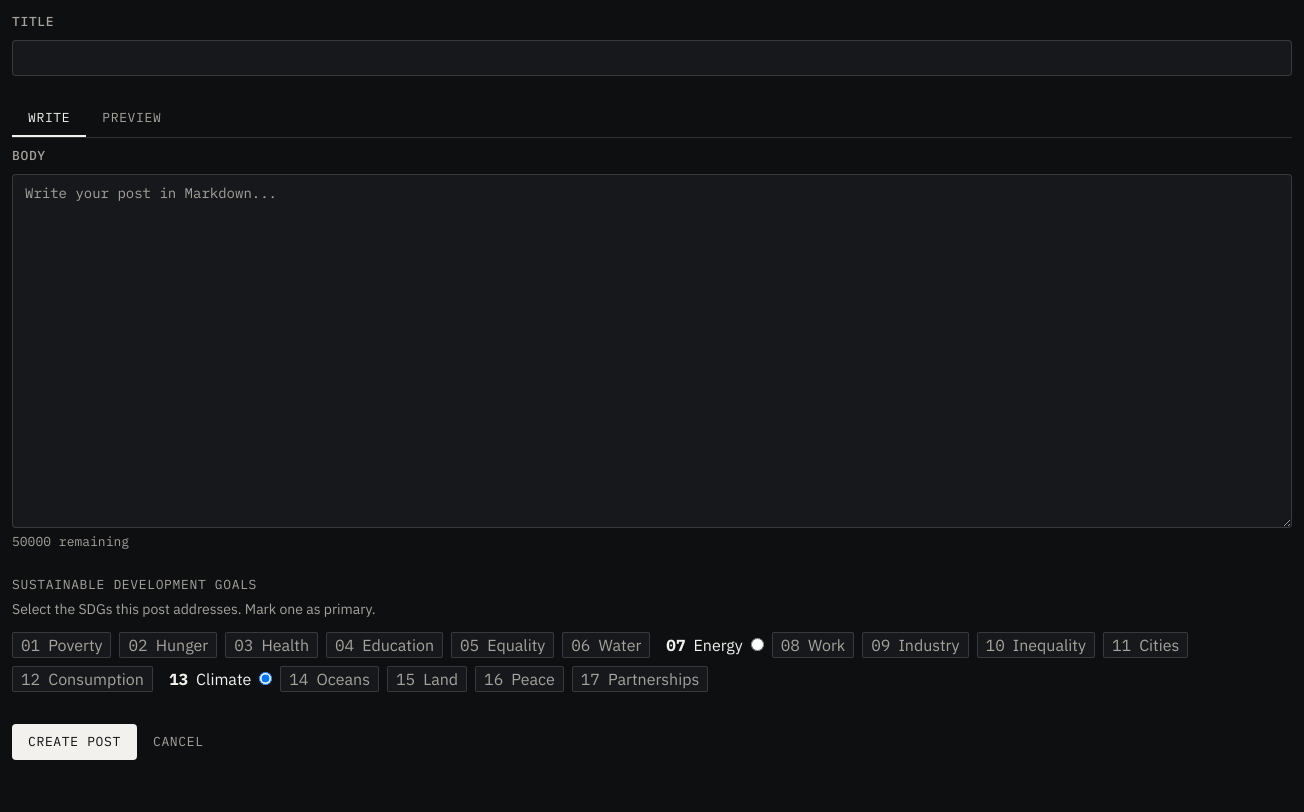
Scenario: PostCreateForm › preview tab shows rendered markdown output
This screenshot has width=1304, height=812.
Type "**bold**" into the text box labelled "Body".
click(652, 350); type("**bold**")  # box [12,174,1292,528]
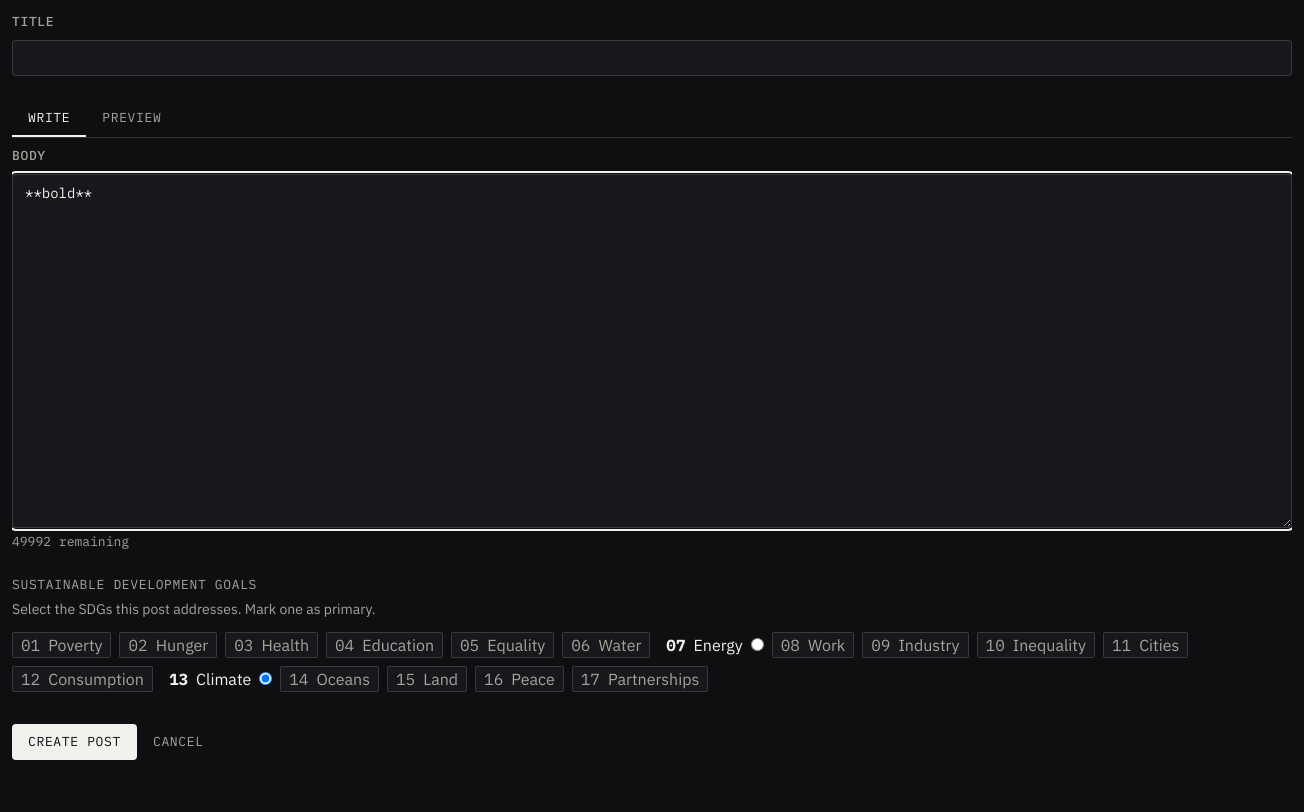
Click the Preview tab
Click the tab "Preview".
click(132, 118)  # box [86,100,178,137]
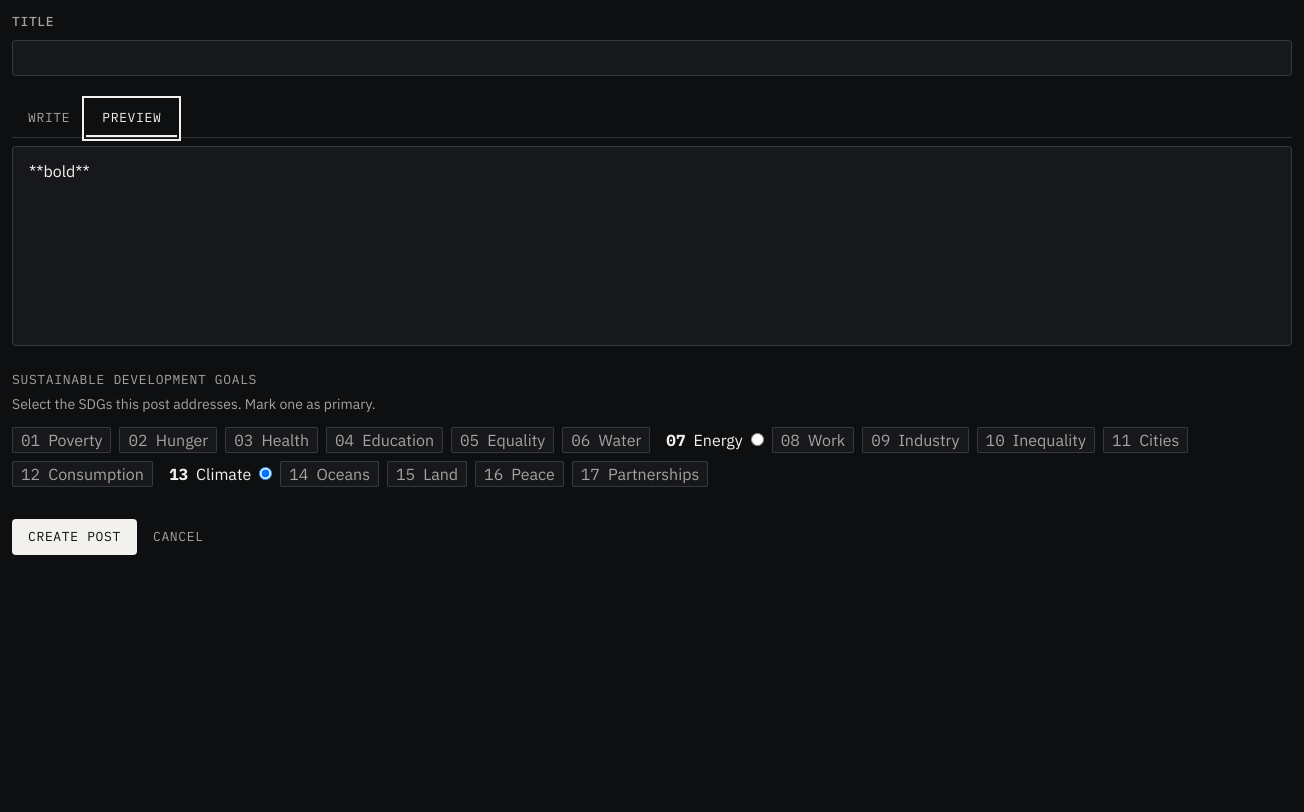
Expected: the element with test id "markdown-preview" is shown, [12,146,1292,346]
